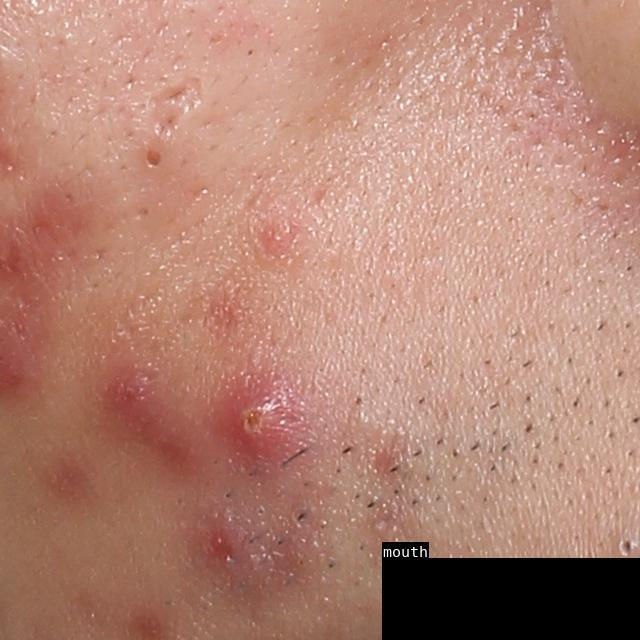atrophic_scar: (145, 74, 207, 143)
comedo: (138, 145, 169, 177), (614, 533, 639, 561)
papule: (205, 376, 302, 467), (196, 513, 262, 578), (105, 362, 162, 429), (260, 220, 299, 249)
